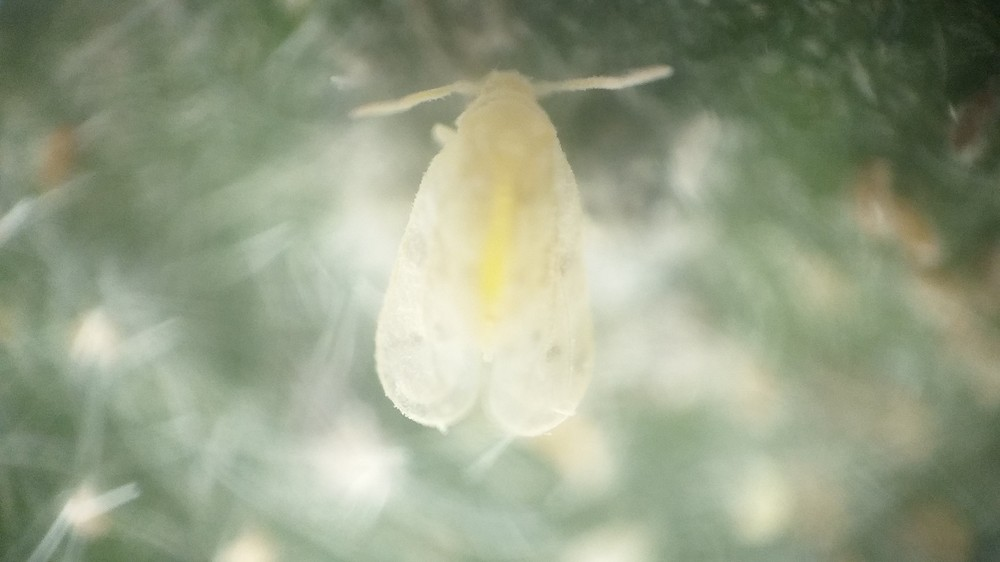Mosca Blanca: (344, 48, 682, 456)
